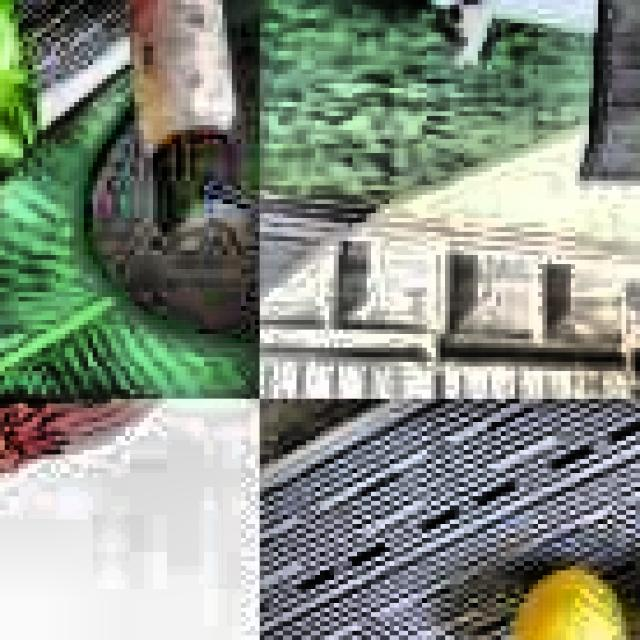bell_pepper: (0, 0, 51, 195)
